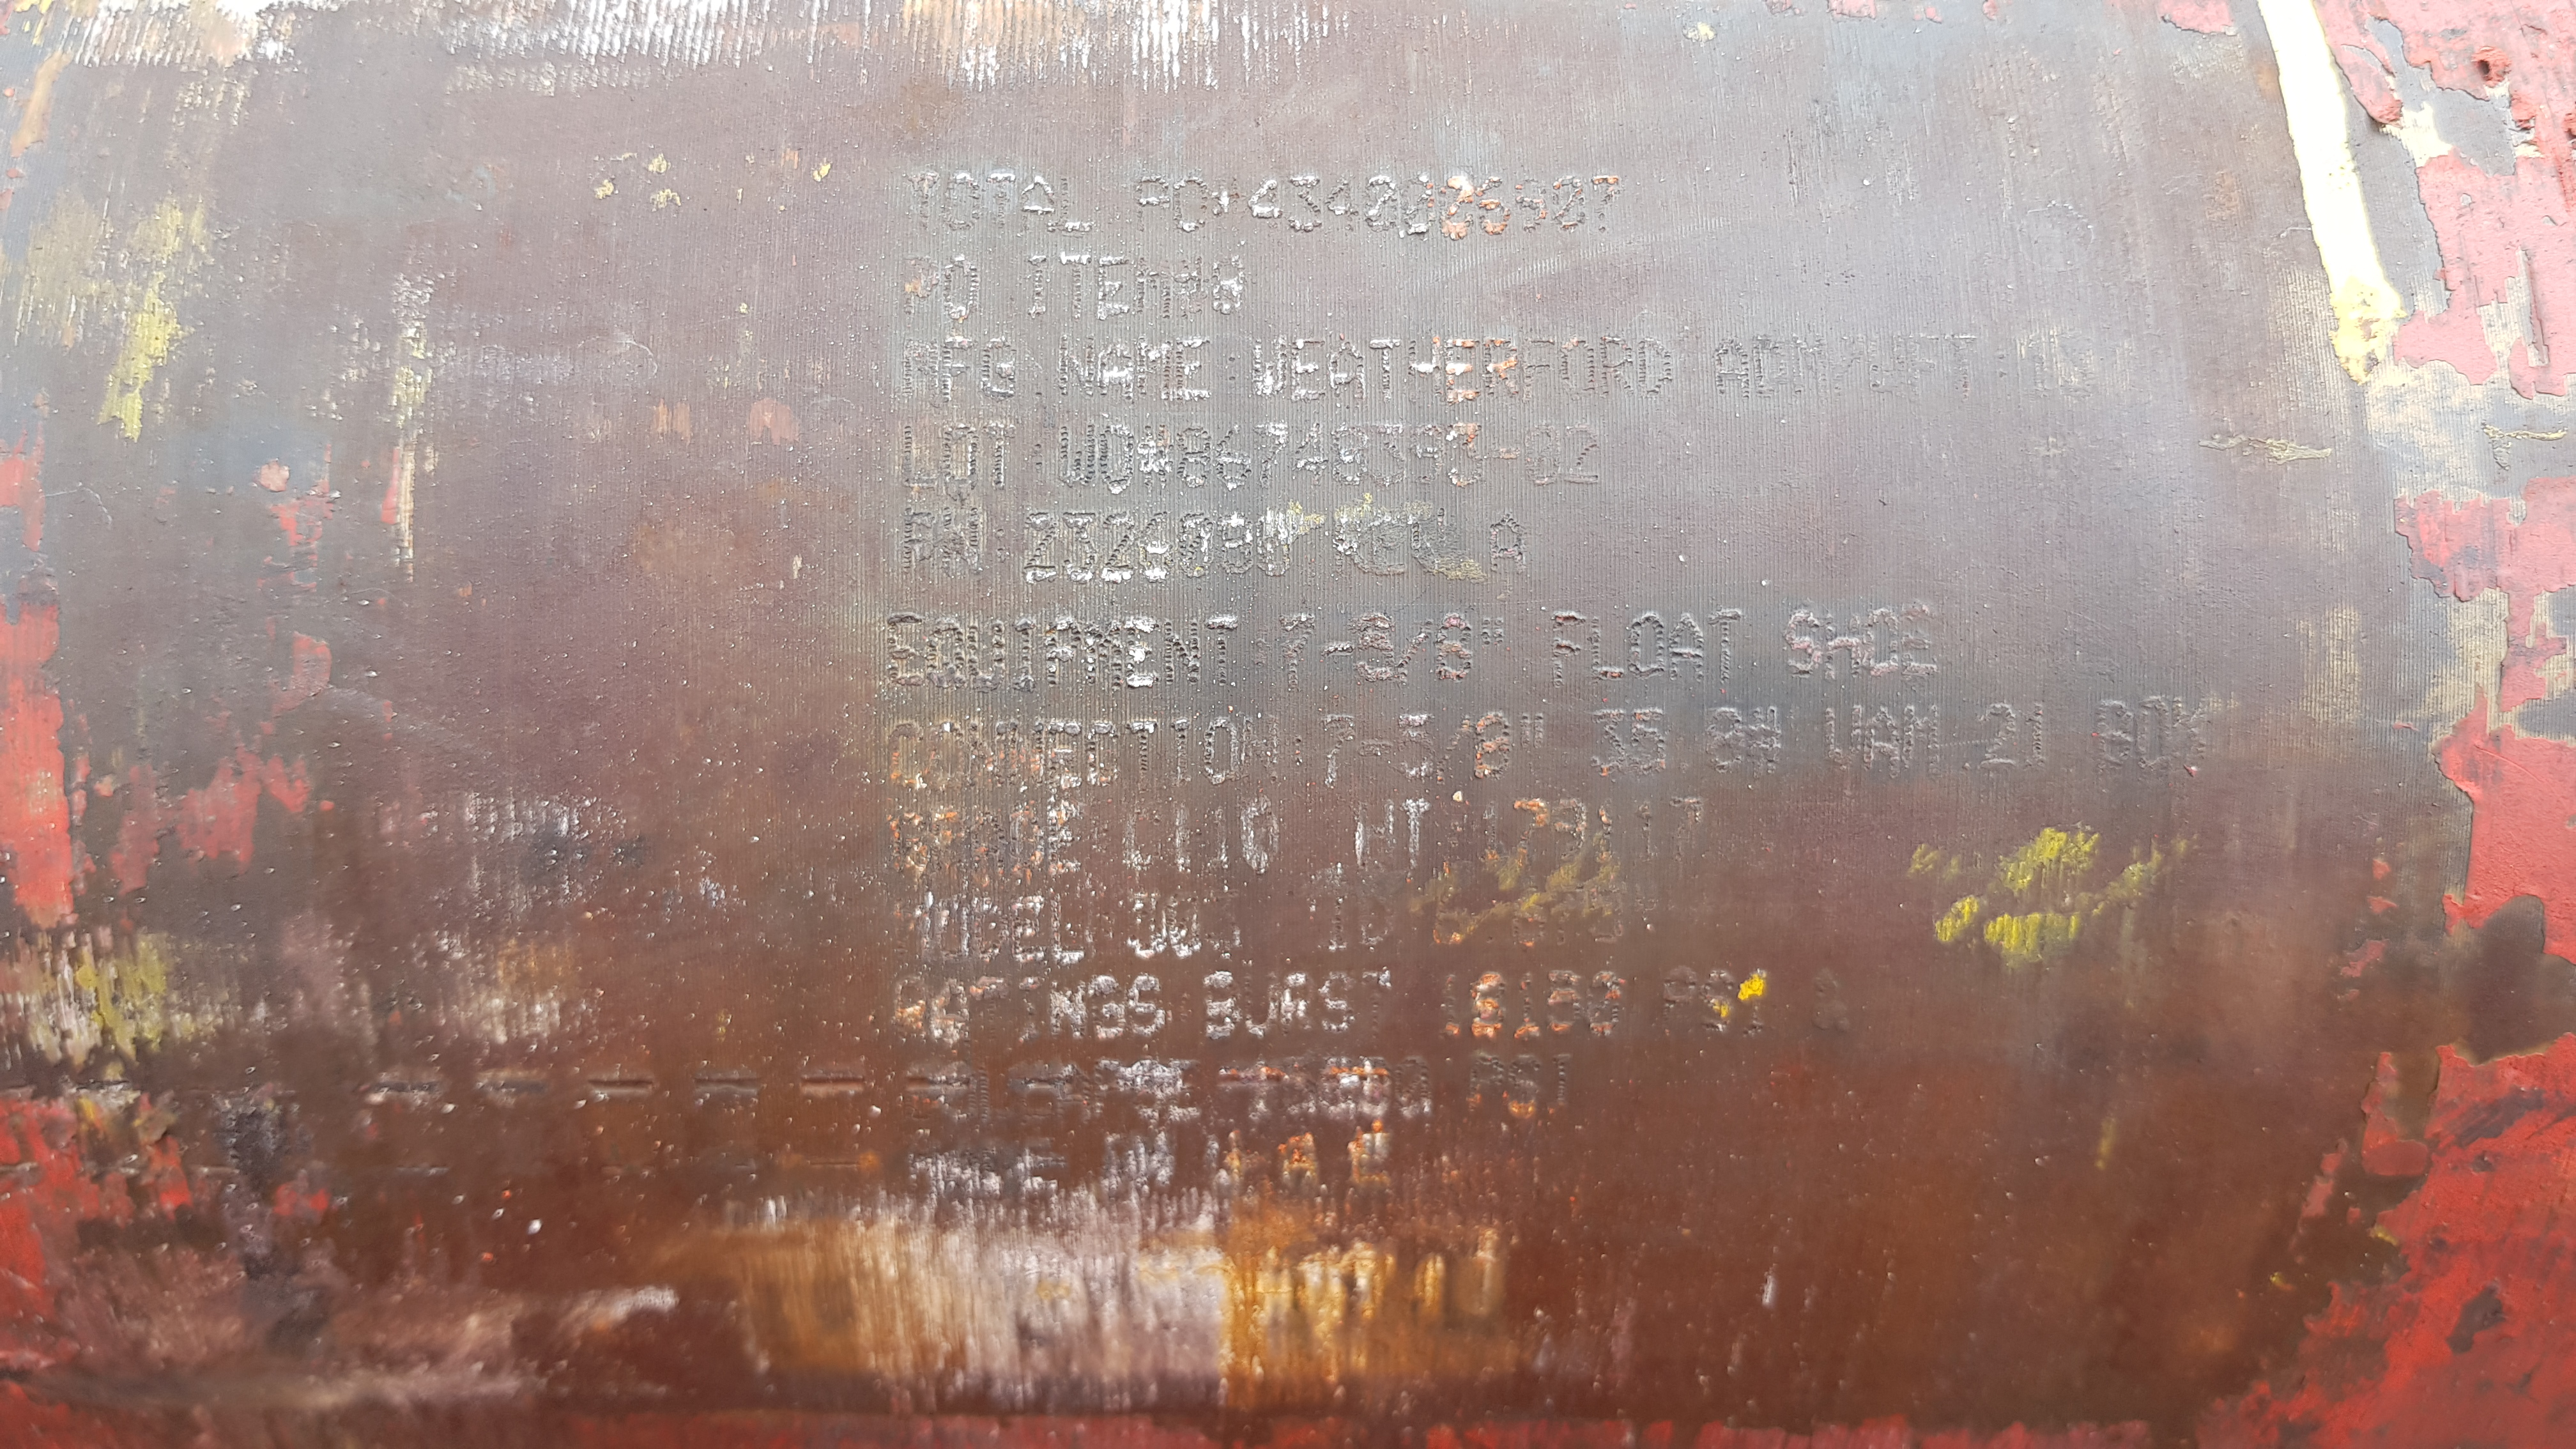character: (924, 612, 968, 697), (1081, 610, 1125, 695), (1115, 609, 1159, 694), (1274, 607, 1318, 692), (924, 708, 968, 793), (966, 706, 1010, 791), (1003, 711, 1047, 796), (1118, 711, 1162, 796), (1237, 964, 1281, 1049), (1463, 1042, 1507, 1127), (1546, 603, 1587, 695), (1392, 706, 1438, 787), (883, 607, 927, 690), (964, 612, 1008, 695), (1039, 609, 1083, 692), (1159, 609, 1203, 692), (1353, 605, 1398, 688), (1433, 603, 1477, 686), (883, 713, 927, 796), (1040, 711, 1085, 794), (1198, 964, 1242, 1047), (1277, 962, 1322, 1046), (1315, 961, 1359, 1044), (1502, 1044, 1546, 1127), (1656, 957, 1700, 1040), (1697, 959, 1741, 1042), (1895, 600, 1941, 679), (1626, 600, 1665, 692), (1079, 709, 1122, 793), (1355, 959, 1398, 1042), (1058, 508, 1102, 586), (1212, 508, 1256, 586), (1249, 331, 1293, 407), (1555, 329, 1599, 405), (1594, 327, 1638, 403), (1633, 331, 1677, 407), (1433, 709, 1477, 786), (2132, 694, 2173, 775), (2167, 688, 2208, 770), (939, 501, 982, 579), (1017, 510, 1060, 587), (1095, 508, 1138, 586), (1134, 510, 1177, 587), (1173, 510, 1215, 587), (1253, 508, 1295, 586), (1329, 506, 1371, 584), (1203, 607, 1242, 690), (1240, 706, 1279, 789), (1318, 708, 1357, 791), (1054, 329, 1097, 405), (1095, 331, 1138, 407), (1132, 329, 1175, 405), (1171, 329, 1214, 405), (1288, 333, 1330, 409), (1325, 333, 1368, 409), (1362, 331, 1405, 407), (1401, 331, 1444, 407), (1440, 333, 1483, 409), (1479, 329, 1522, 405), (1516, 329, 1559, 405), (1709, 333, 1752, 409), (1470, 704, 1513, 780), (1628, 704, 1672, 777), (2095, 697, 2139, 770), (1782, 603, 1822, 681), (1819, 605, 1859, 683), (1859, 603, 1900, 681), (1203, 708, 1242, 789), (1407, 419, 1447, 495), (1445, 419, 1486, 495), (1665, 609, 1706, 685), (1706, 607, 1746, 683), (1587, 704, 1629, 777), (1704, 701, 1746, 773), (1861, 702, 1904, 775), (1900, 701, 1943, 773), (1976, 699, 2019, 771), (1330, 421, 1371, 495), (1585, 609, 1626, 683), (1486, 511, 1532, 577), (1824, 697, 1867, 768), (1058, 419, 1097, 495), (1136, 419, 1175, 495), (1214, 421, 1253, 497), (1251, 419, 1290, 495), (1369, 419, 1408, 495), (1523, 421, 1562, 497), (1283, 168, 1325, 237), (1509, 170, 1552, 239), (1097, 421, 1136, 495), (1175, 421, 1214, 495), (1293, 418, 1332, 492), (1562, 421, 1601, 495), (939, 168, 980, 239), (1511, 793, 1552, 863), (1320, 170, 1362, 237), (941, 251, 980, 324), (1550, 793, 1589, 865), (1361, 170, 1401, 239), (1398, 170, 1438, 239), (1546, 170, 1587, 239), (1056, 249, 1093, 324), (1134, 249, 1171, 324), (1210, 248, 1247, 322), (902, 333, 939, 407), (939, 333, 977, 407), (980, 331, 1017, 405), (941, 414, 978, 488), (899, 416, 936, 490), (980, 416, 1017, 490), (901, 502, 938, 577), (1166, 709, 1198, 796), (1667, 793, 1706, 863), (1131, 172, 1171, 239), (1169, 170, 1210, 237), (1437, 173, 1477, 241), (1472, 173, 1513, 241), (1585, 172, 1626, 239), (1095, 251, 1132, 324), (1171, 251, 1208, 324), (1017, 170, 1056, 239), (1058, 170, 1097, 239), (1737, 959, 1769, 1042), (1746, 702, 1785, 766), (902, 255, 941, 317), (1246, 173, 1288, 230), (2019, 697, 2052, 768), (1010, 612, 1039, 695), (1476, 793, 1507, 865), (1592, 793, 1624, 865), (904, 166, 939, 230), (1631, 791, 1661, 865), (1546, 1049, 1580, 1115), (982, 168, 1017, 230), (1396, 614, 1433, 672), (1026, 251, 1053, 320), (1518, 709, 1548, 750), (1479, 612, 1509, 649), (1322, 637, 1355, 662), (1210, 184, 1233, 219), (1355, 740, 1396, 759), (1288, 732, 1309, 770), (1251, 633, 1270, 667), (993, 525, 1010, 557), (1224, 352, 1240, 384), (1488, 446, 1523, 460), (1031, 441, 1046, 471)
